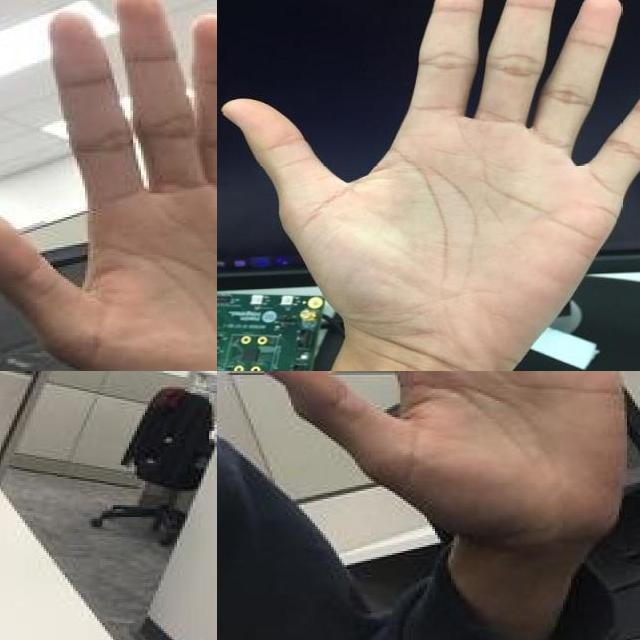no-gloves: (217, 0, 640, 371), (0, 0, 217, 371), (253, 371, 632, 565)
